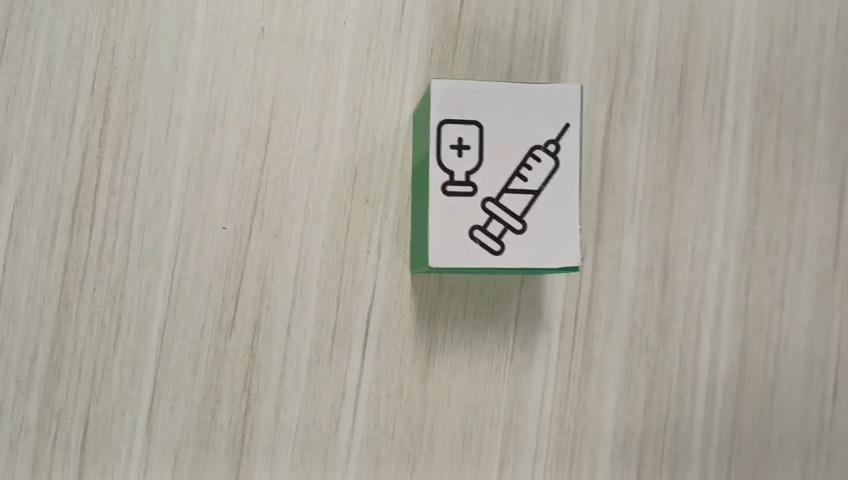antiseptic cream: (410, 77, 583, 274)
